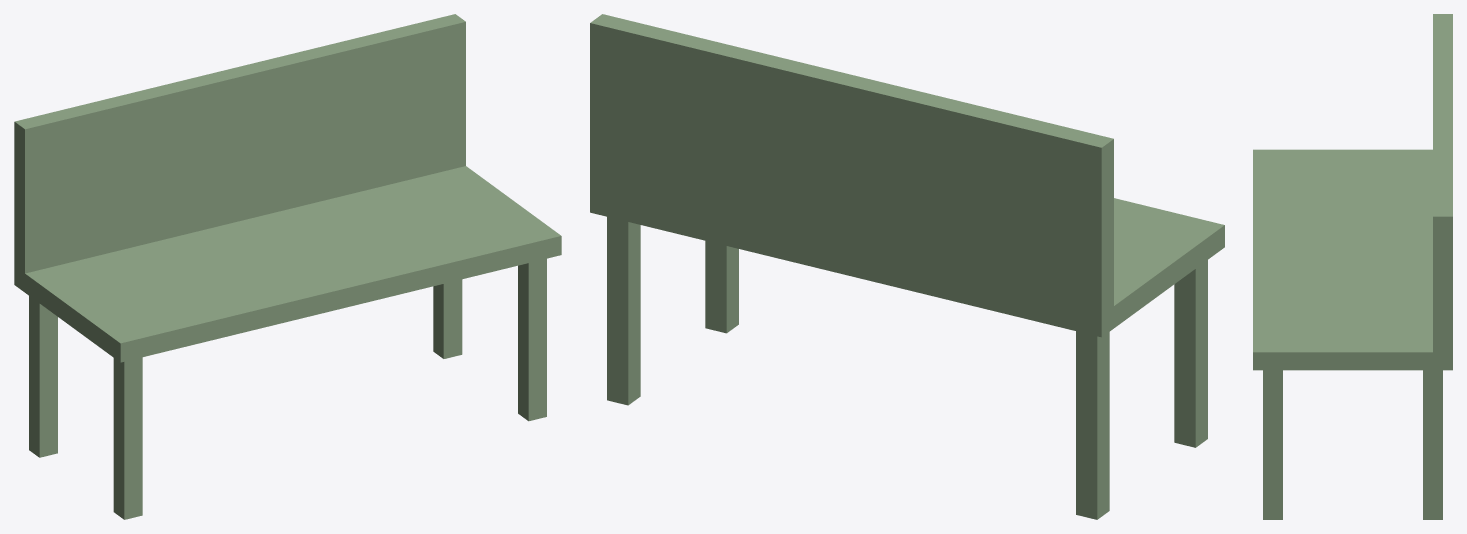
The model's file is bench.glb.
The picture shows the model from 3 angles, left to right: view 1: azimuth 30°, elevation 25°; view 2: azimuth 150°, elevation 25°; view 3: azimuth 270°, elevation 25°; orthographic projection. The views are drawn at different scales.
Parts seen in each view (by area): view 1: backrest, seat, leg_1, leg_3, leg_0, leg_2; view 2: backrest, seat, leg_0, leg_2, leg_1, leg_3; view 3: seat, backrest, leg_2, leg_3.
Part boxes in pixels (<box>): backrest: <box>14,14,465,273</box>; seat: <box>14,166,561,362</box>; leg_1: <box>113,357,142,519</box>; leg_3: <box>518,258,546,421</box>; leg_0: <box>29,296,57,457</box>; leg_2: <box>433,279,462,358</box>; backrest: <box>590,14,1113,326</box>; seat: <box>590,198,1224,337</box>; leg_0: <box>1076,331,1109,519</box>; leg_2: <box>607,217,640,405</box>; leg_1: <box>1174,260,1207,447</box>; leg_3: <box>705,241,738,333</box>; seat: <box>1253,149,1452,370</box>; backrest: <box>1433,14,1452,361</box>; leg_2: <box>1423,370,1442,519</box>; leg_3: <box>1263,370,1282,519</box>.
Size of the model in its own units: 1.2 by 0.85 by 0.5.
